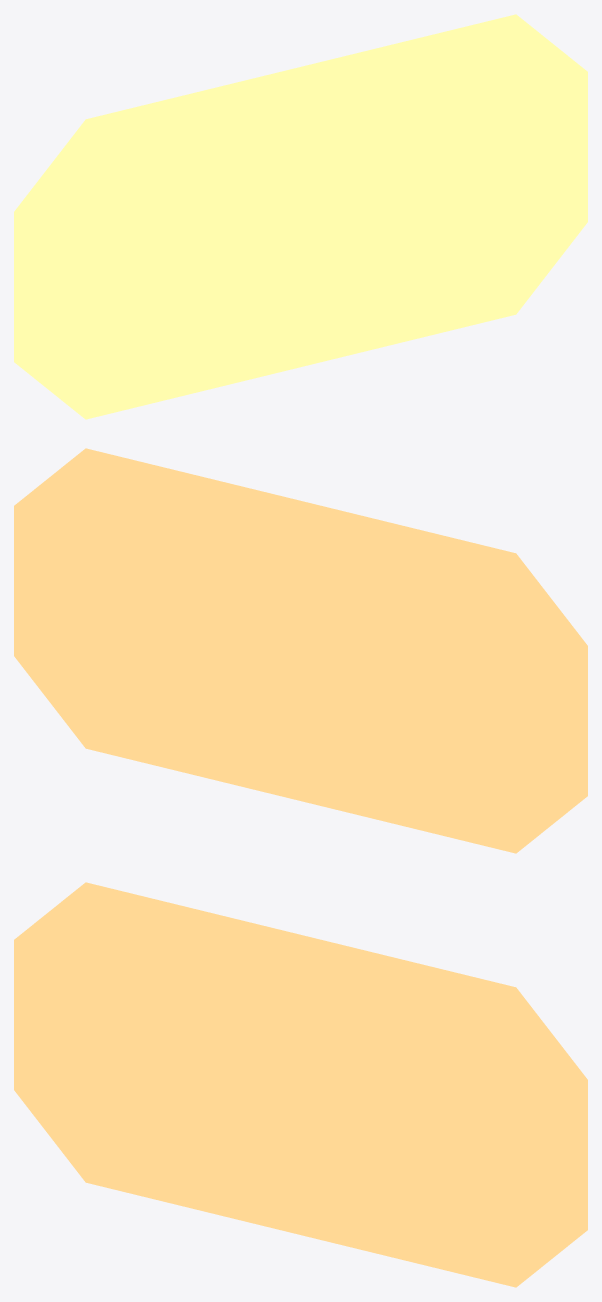
The model's file is AmmoLongRangeVisual.glb.
The picture shows the model from 3 angles, top to bottom: view 1: azimuth 30°, elevation 25°; view 2: azimuth 150°, elevation 25°; view 3: azimuth 330°, elevation 25°; orthographic projection.
Parts seen in each view (by area): view 1: AmmoCannonVisual; view 2: AmmoCannonVisual; view 3: AmmoCannonVisual.
Part boxes in pixels (left/top/right/bottom): AmmoCannonVisual: left=14, top=14, right=587, bottom=419; AmmoCannonVisual: left=14, top=448, right=587, bottom=853; AmmoCannonVisual: left=14, top=882, right=587, bottom=1287.
Size of the model in its own units: 20 by 10 by 0.
